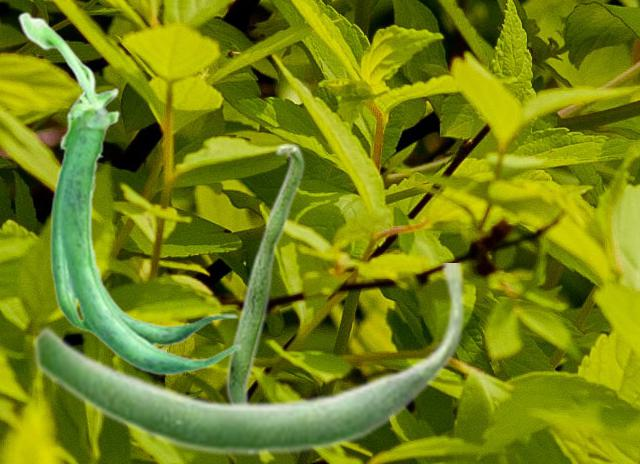french_bean: (32, 263, 465, 457), (17, 11, 240, 375), (225, 142, 304, 400)
